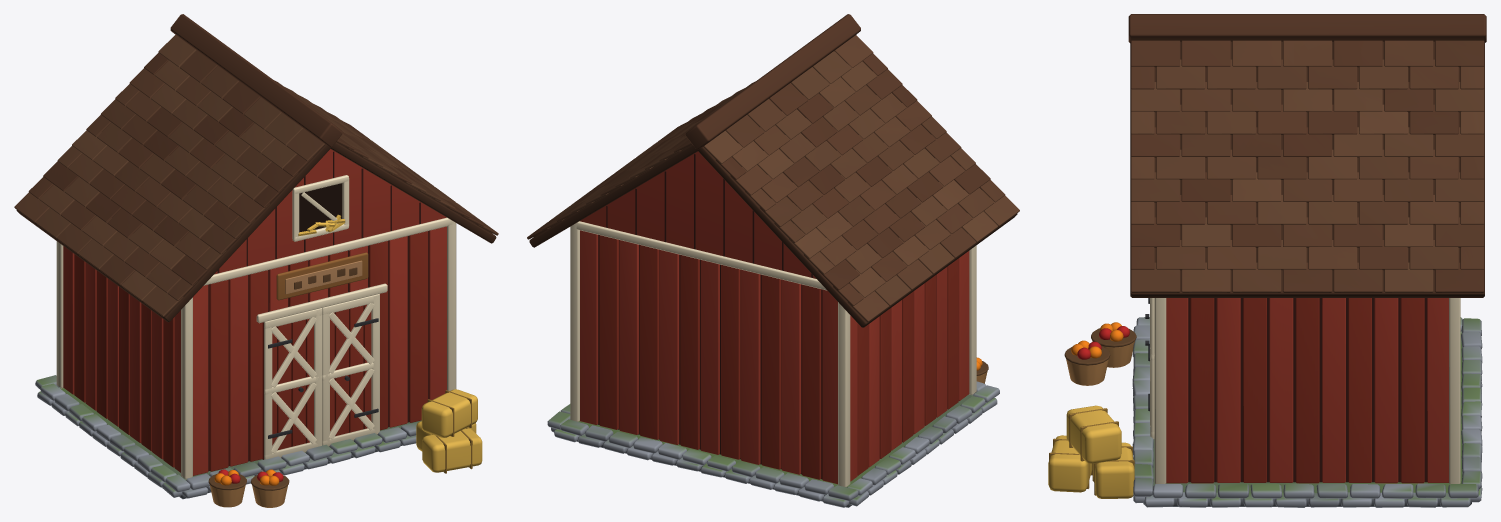
File: granary.glb
3 views of the same model, side by side, from view 1: azimuth 30°, elevation 25°; view 2: azimuth 150°, elevation 25°; view 3: azimuth 270°, elevation 25° (orthographic). The views are drawn at different scales.
Visible parts, largest first — view 1: granary; view 2: granary; view 3: granary.
Boxes of the visible parts, bbox=[...] form: granary: bbox=[14, 14, 498, 507]; granary: bbox=[527, 14, 1019, 507]; granary: bbox=[1048, 14, 1486, 507].
Bounding box in the file's own units: 7 × 6.9 × 6.67.
